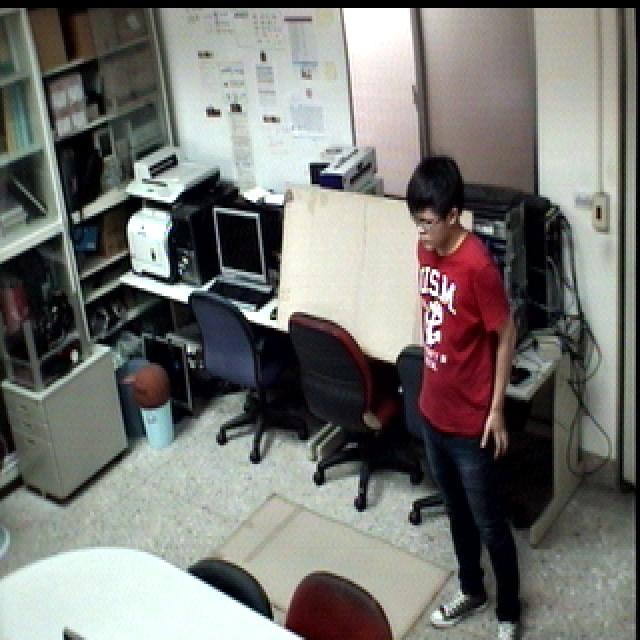stand: (400, 149, 532, 640)
